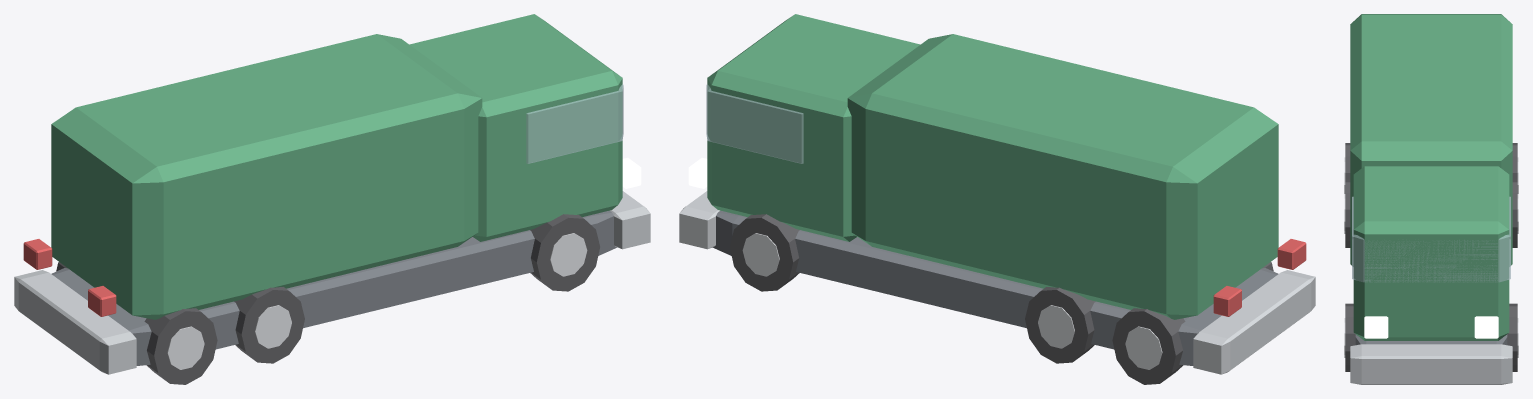
Rendered from b15_tree_service_chip_truck.glb.
3 views of the same model, side by side, from view 1: azimuth 30°, elevation 25°; view 2: azimuth 150°, elevation 25°; view 3: azimuth 270°, elevation 25° (orthographic). The views are drawn at different scales.
Parts seen in each view (by area): view 1: b15_tree_service_chip_truck; view 2: b15_tree_service_chip_truck; view 3: b15_tree_service_chip_truck.
Part boxes in pixels (x1,y1,x2,y2): b15_tree_service_chip_truck: (14,14,650,384); b15_tree_service_chip_truck: (679,14,1315,384); b15_tree_service_chip_truck: (1344,14,1518,384).
Size of the model in its own units: 8.96 by 3.38 by 2.87.
